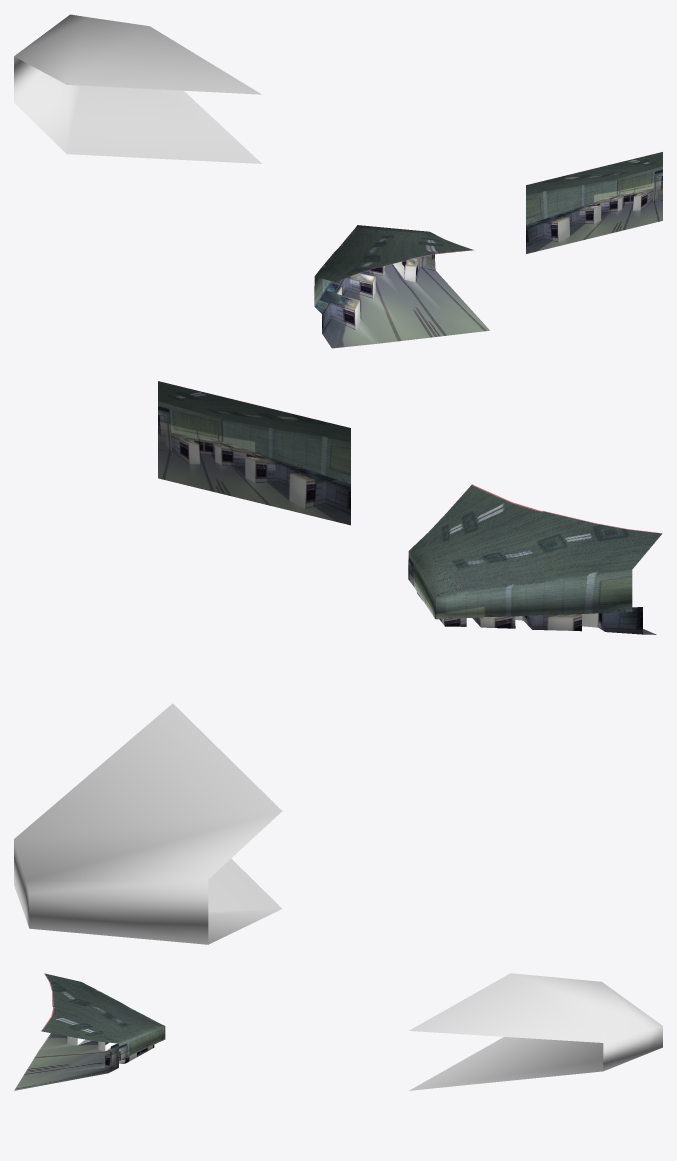
File: bg_housekeeping.FBX
The picture shows the model from 3 angles, top to bottom: view 1: azimuth 30°, elevation 25°; view 2: azimuth 150°, elevation 25°; view 3: azimuth 270°, elevation 25°; orthographic projection. The views are drawn at different scales.
Parts seen in each view (by area): view 1: Plane001, map sample001, map sample; view 2: Plane001, map sample001, map sample; view 3: Plane001, map sample001.
Part boxes in pixels (x1=…): Plane001: x1=14, y1=14, x2=261, y2=163; map sample001: x1=314, y1=225, x2=489, y2=348; map sample: x1=526, y1=152, x2=662, y2=253; Plane001: x1=14, y1=703, x2=282, y2=944; map sample001: x1=408, y1=484, x2=662, y2=634; map sample: x1=158, y1=381, x2=350, y2=525; Plane001: x1=409, y1=973, x2=662, y2=1090; map sample001: x1=14, y1=973, x2=165, y2=1090.
Bounding box in the file's own units: 250 × 74.99 × 474.
1 material, 1 textured.
